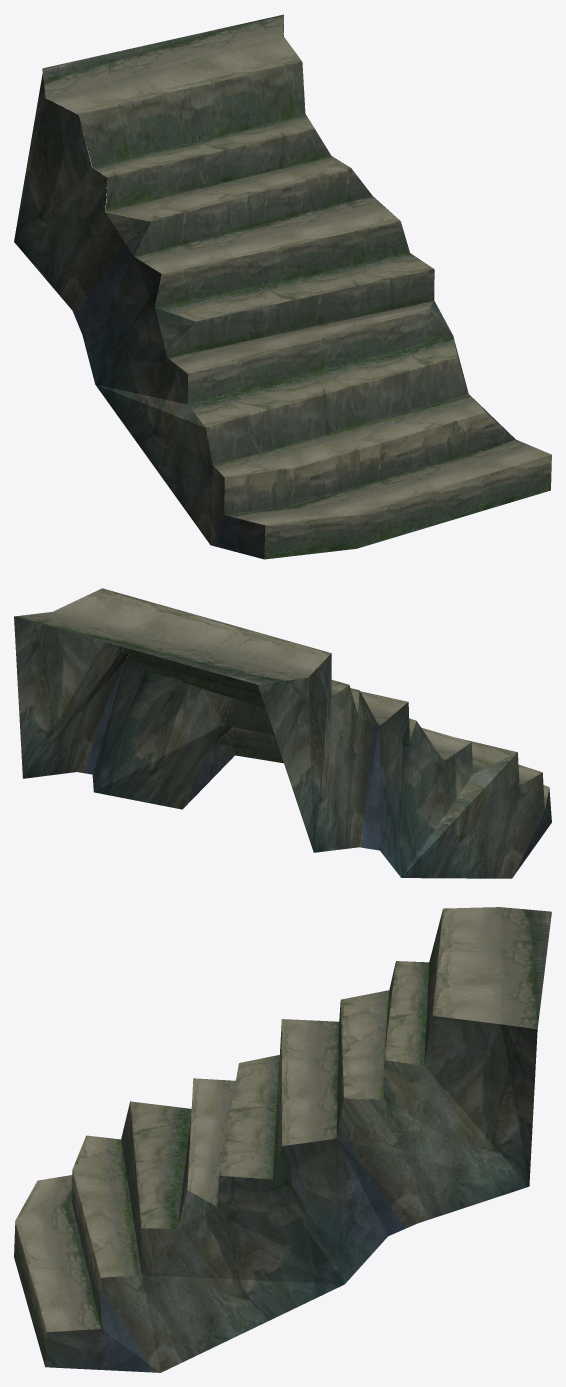
File: environment_stone_shijieti_01_b.FBX
3 renders of one model, top to bottom at view 1: azimuth 30°, elevation 25°; view 2: azimuth 150°, elevation 25°; view 3: azimuth 270°, elevation 25°, orthographic. The views are drawn at different scales.
Parts seen in each view (by area): view 1: environment_stone_shijieti_01_b3, environment_stone_shijieti_01_b4; view 2: environment_stone_shijieti_01_b4, environment_stone_shijieti_01_b3; view 3: environment_stone_shijieti_01_b4, environment_stone_shijieti_01_b3.
Part boxes in pixels (x1=…): environment_stone_shijieti_01_b3: x1=42, y1=14, x2=551, y2=559; environment_stone_shijieti_01_b4: x1=14, y1=24, x2=551, y2=559; environment_stone_shijieti_01_b4: x1=14, y1=589, x2=551, y2=878; environment_stone_shijieti_01_b3: x1=14, y1=588, x2=549, y2=810; environment_stone_shijieti_01_b4: x1=45, y1=961, x2=537, y2=1372; environment_stone_shijieti_01_b3: x1=14, y1=907, x2=551, y2=1366.
Size of the model in its own units: 117 by 117 by 170.
Materials: 2 (2 with a texture image).
